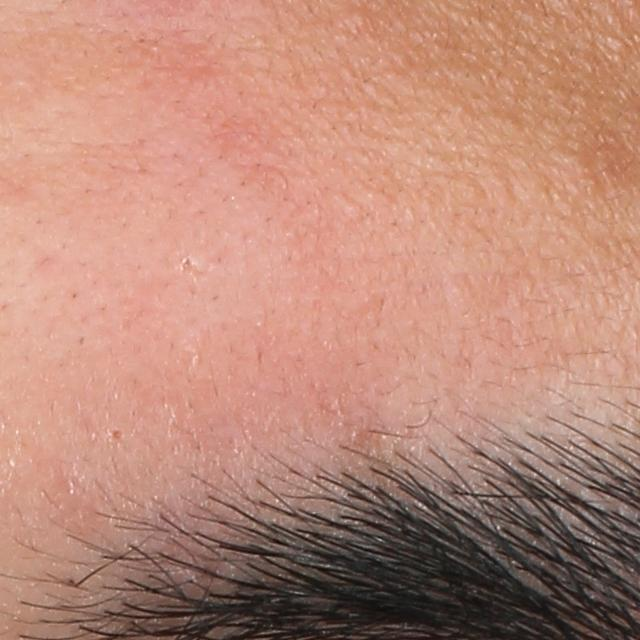comedo: (107, 424, 126, 443)
